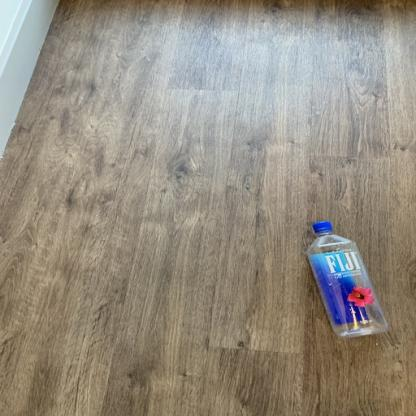trash: (306, 221, 392, 338)
